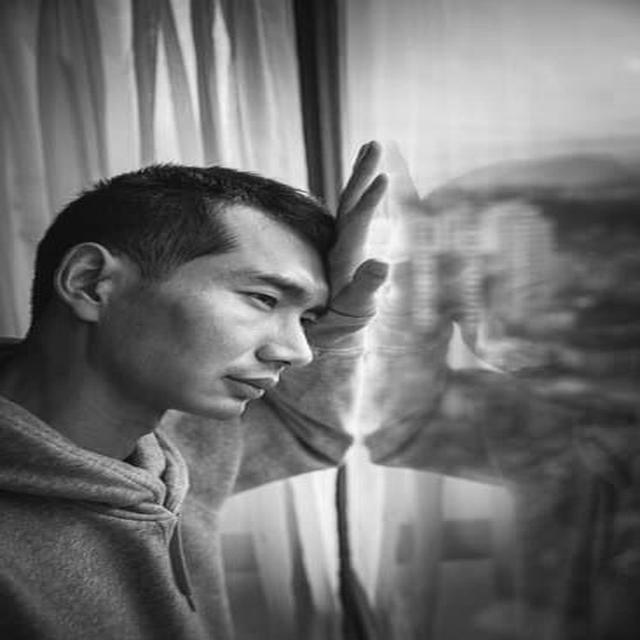Sadness: (169, 197, 328, 421)
